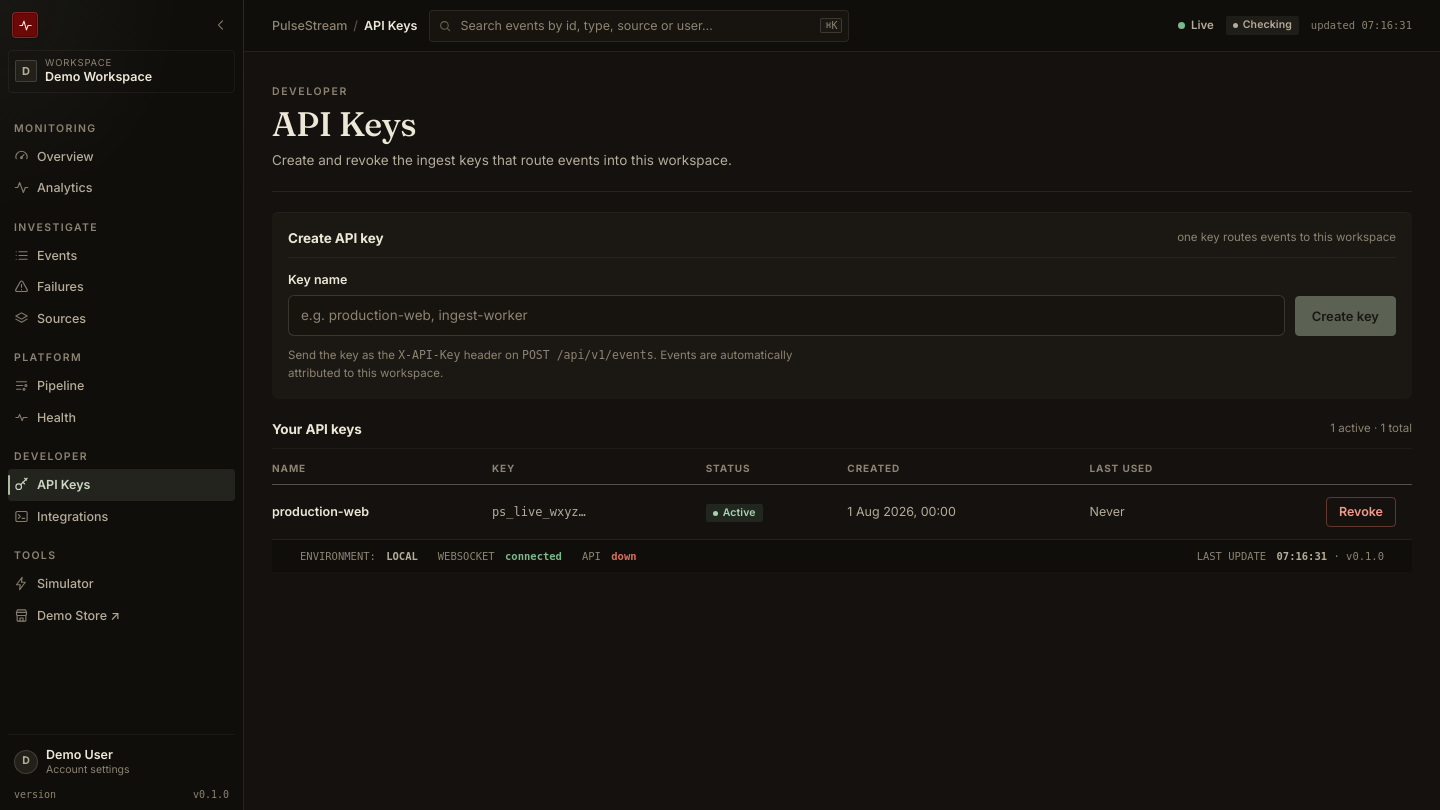
Test: API Keys page › requires confirmation to revoke, then marks the key revoked
Click the button with aria-label "Revoke production-web".
click(1361, 512)  # box [1326,497,1396,527]
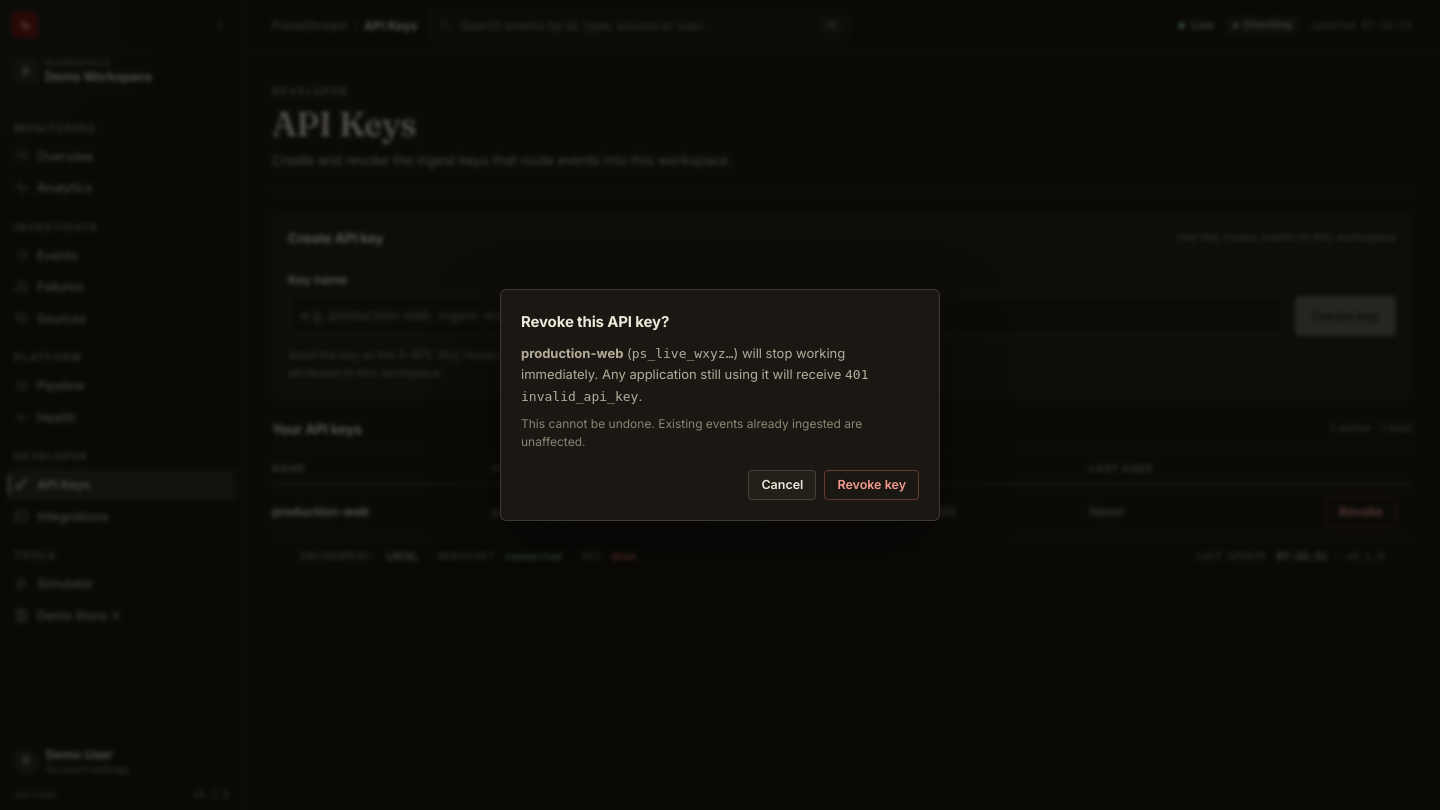
Expected: the heading "Revoke this API key?" is shown, [521,312,669,331]
Expected: the text "401 invalid_api_key" is shown, [521,368,868,404]
Click the button "Revoke key".
click(872, 485)  # box [824,470,919,500]
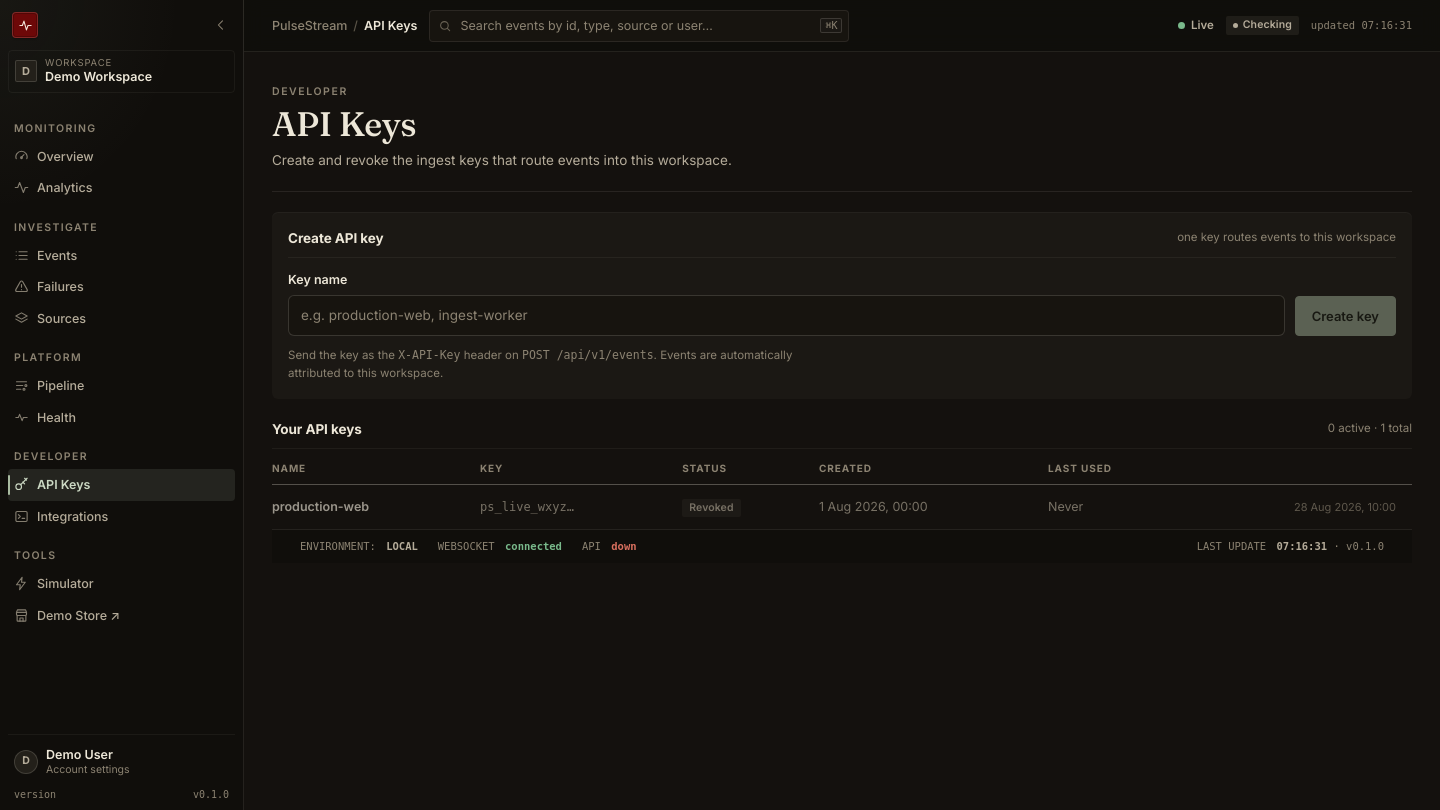
Expected: the text "Revoked" is shown, [682,499,741,517]
